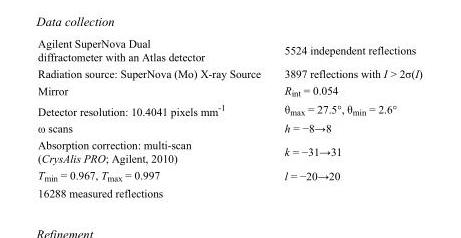table: (37, 36, 421, 198)
table column: (37, 36, 271, 198), (271, 36, 421, 198)
table row: (37, 136, 421, 166), (37, 36, 421, 64), (37, 99, 421, 119), (37, 81, 421, 99), (37, 166, 421, 184), (37, 64, 421, 81), (37, 119, 421, 136), (37, 184, 421, 198)
